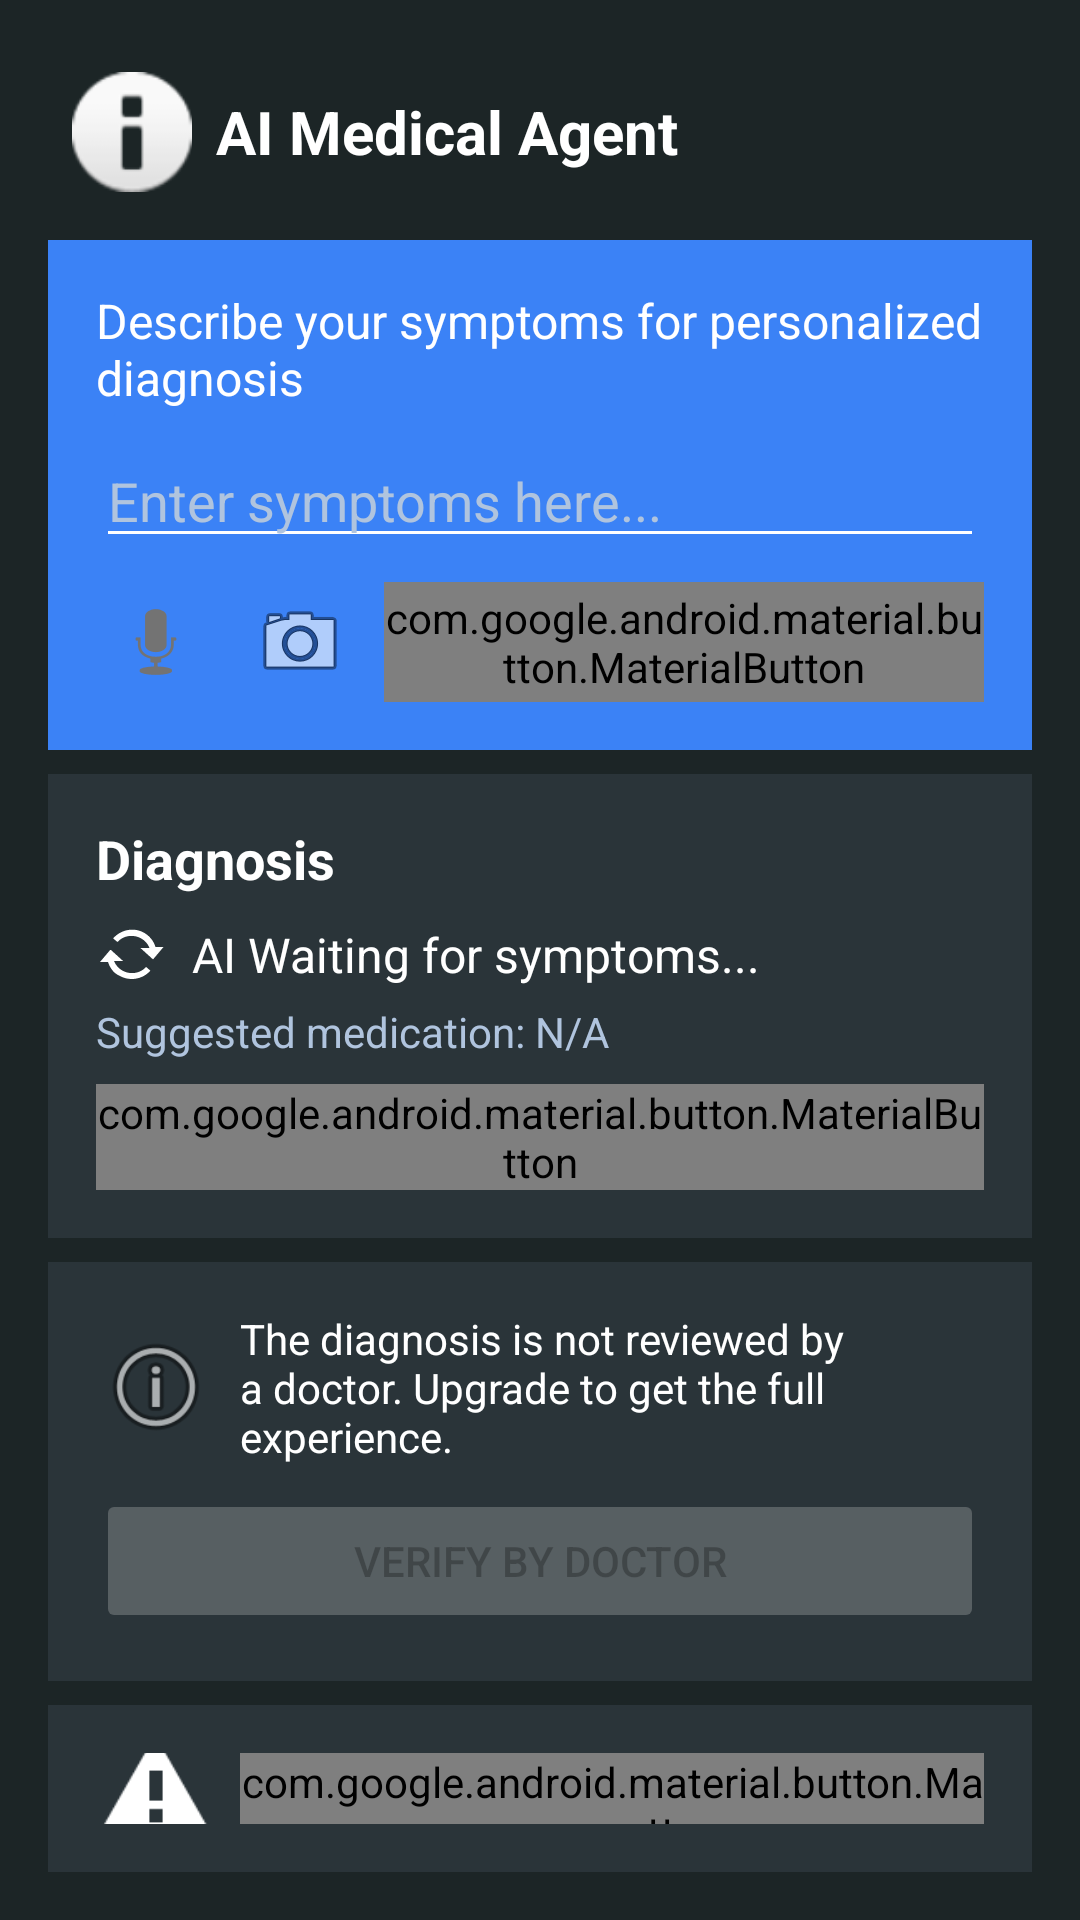

Named icons in this screenshot (1080x1920) and their centers, (x=x, y=y):
Camera Input: (x=300, y=640)
Info Icon: (x=156, y=1387)
Processing Icon: (x=132, y=954)
Voice Input: (x=156, y=642)
Warning Icon: (x=155, y=1788)
